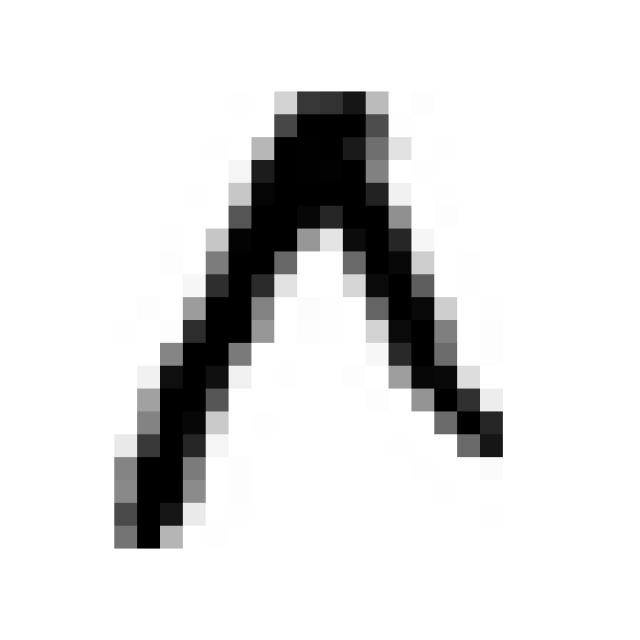8 -eight-: (94, 66, 523, 568)
